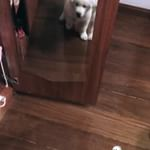puppy: (56, 1, 95, 43)
